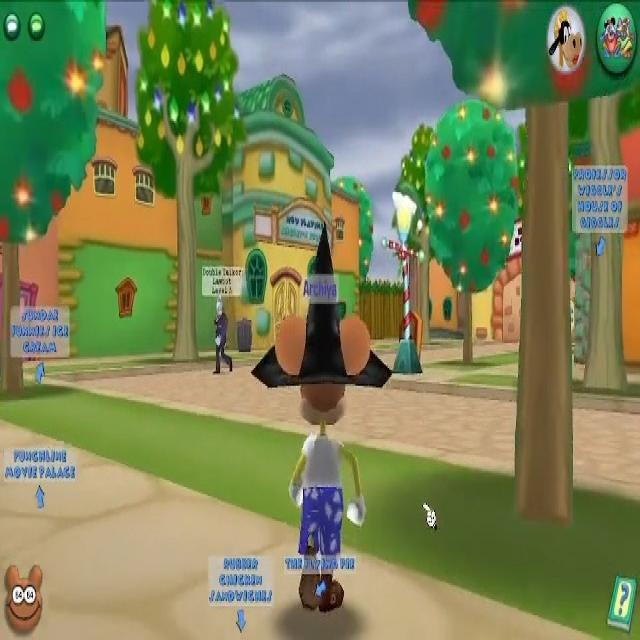doubletalker: (201, 267, 244, 380)
